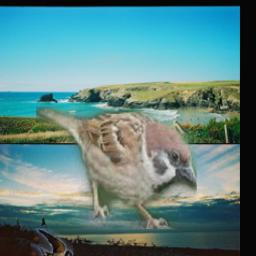Sparrow: (36, 106, 197, 229)
Swallow: (31, 229, 74, 256)
